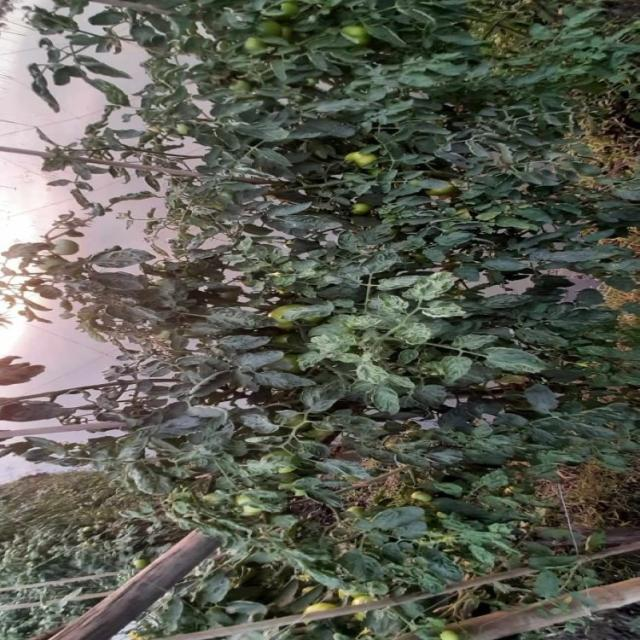tomato: (344, 147, 377, 177), (254, 1, 295, 23), (342, 25, 372, 54), (347, 587, 374, 616), (266, 301, 289, 332), (236, 36, 267, 58), (301, 601, 335, 620), (353, 198, 374, 218)
